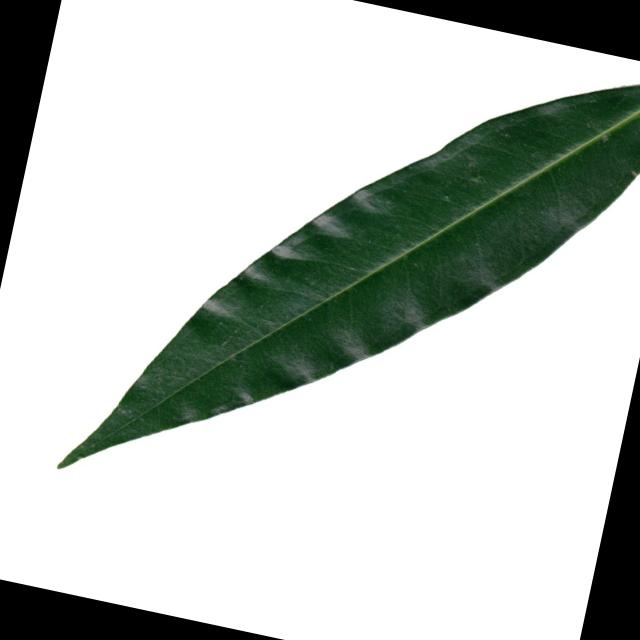Medicinal-Rose Apple: (55, 0, 640, 583)
